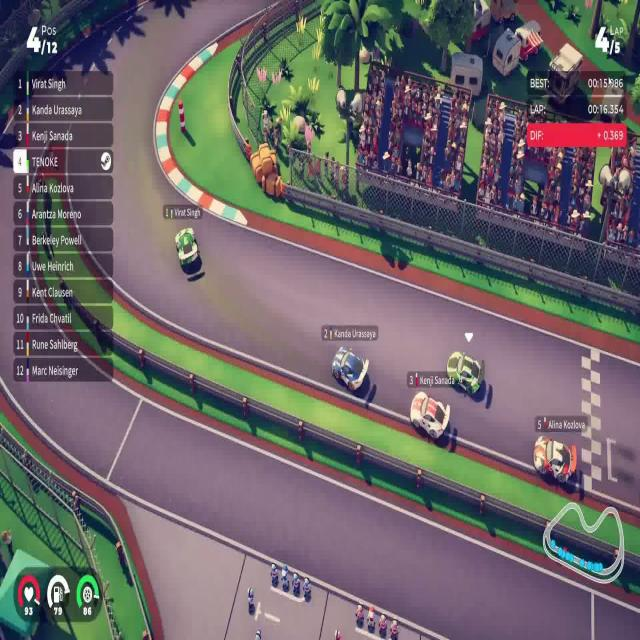car: (409, 390, 451, 441), (532, 434, 574, 485), (331, 345, 369, 392), (446, 350, 482, 395), (174, 226, 198, 269)
